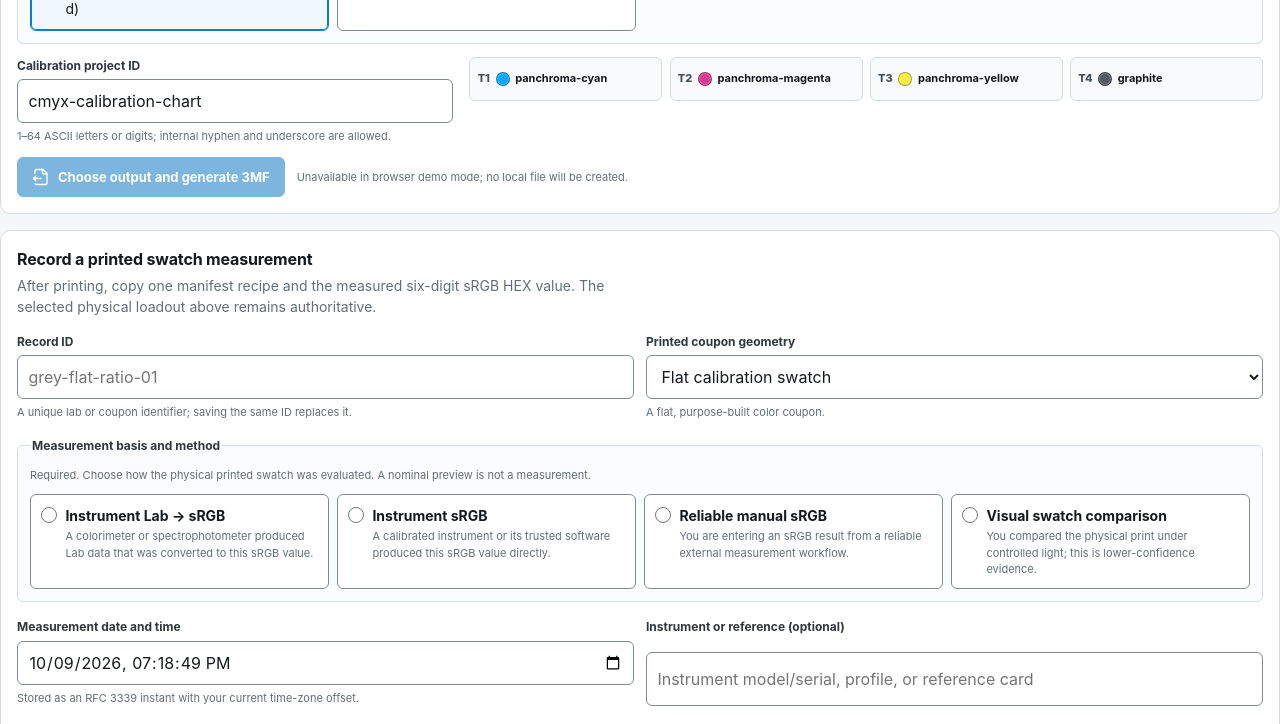
Test: ColorCalibration › blocks unavailable fixed CMY loadouts with text, not color alone
The image size is (1280, 724).
(page scrolled)
Type "blocked-coupon" into the field labelled "Record ID" at (326,377), box left=17, top=355, right=634, bottom=399
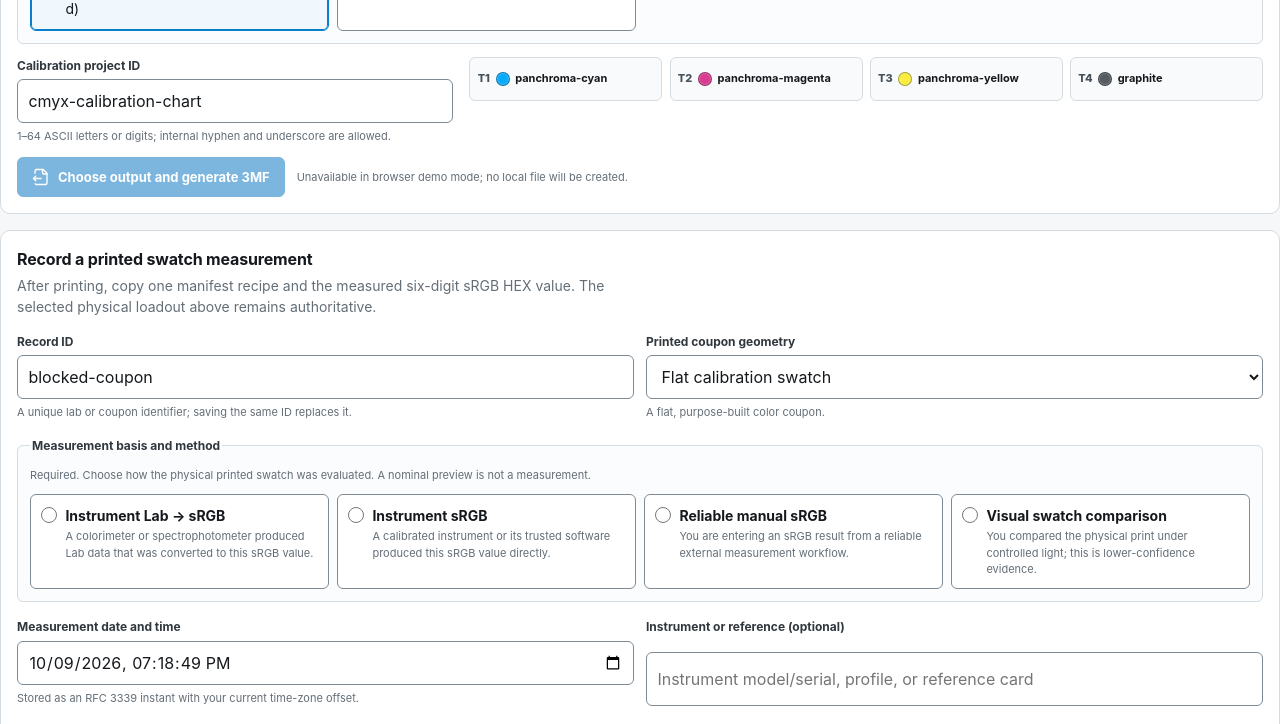
Replace the text in the field labelled "Measurement date and time" with "2026-08-01T11:30:00" at (326,663), box left=17, top=641, right=634, bottom=685
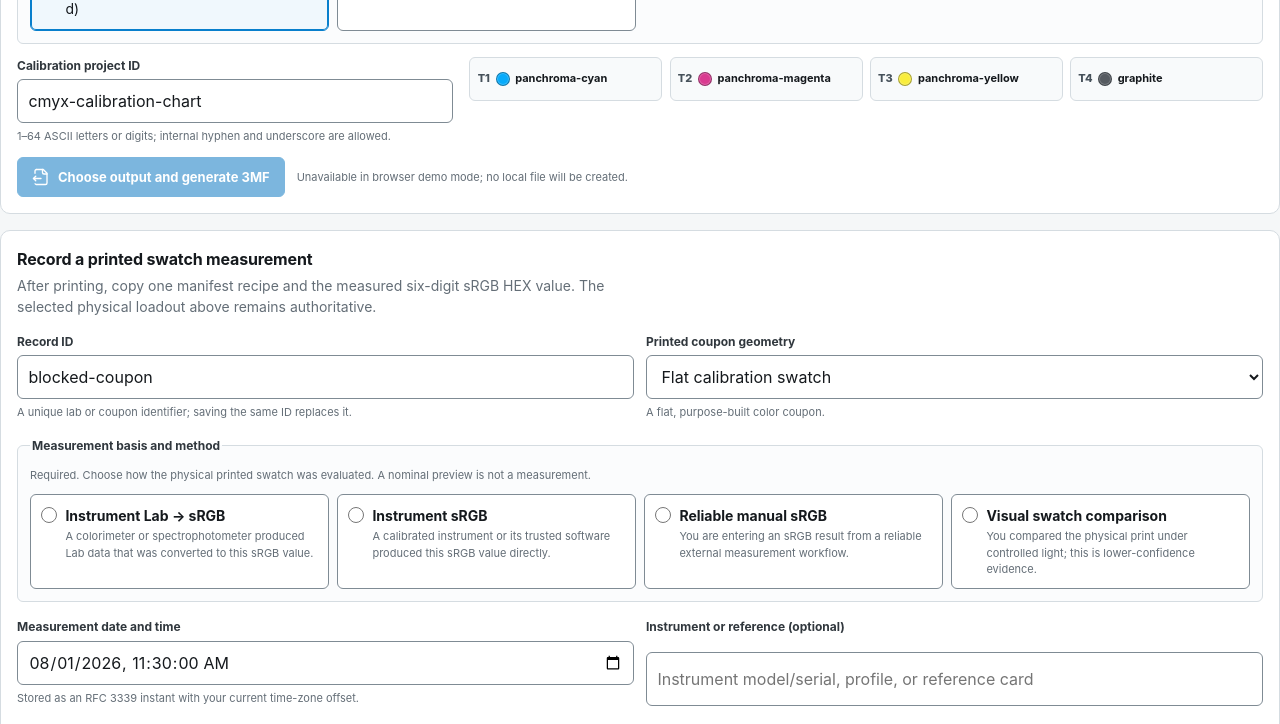
Click the radio button labelled "Instrument sRGB" at (356,515), box left=348, top=507, right=364, bottom=523
(page scrolled)
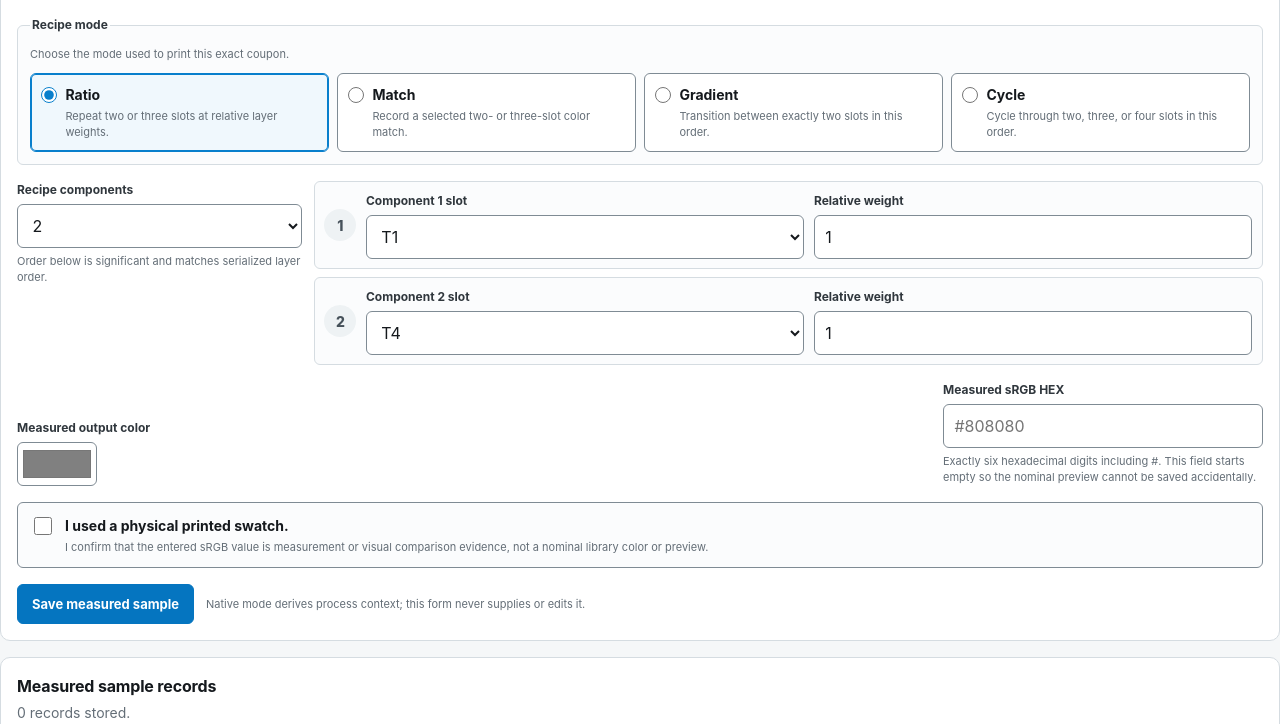
Type "#A0A1A2" into the field labelled "Measured sRGB HEX" at (1103,426), box left=943, top=404, right=1263, bottom=448
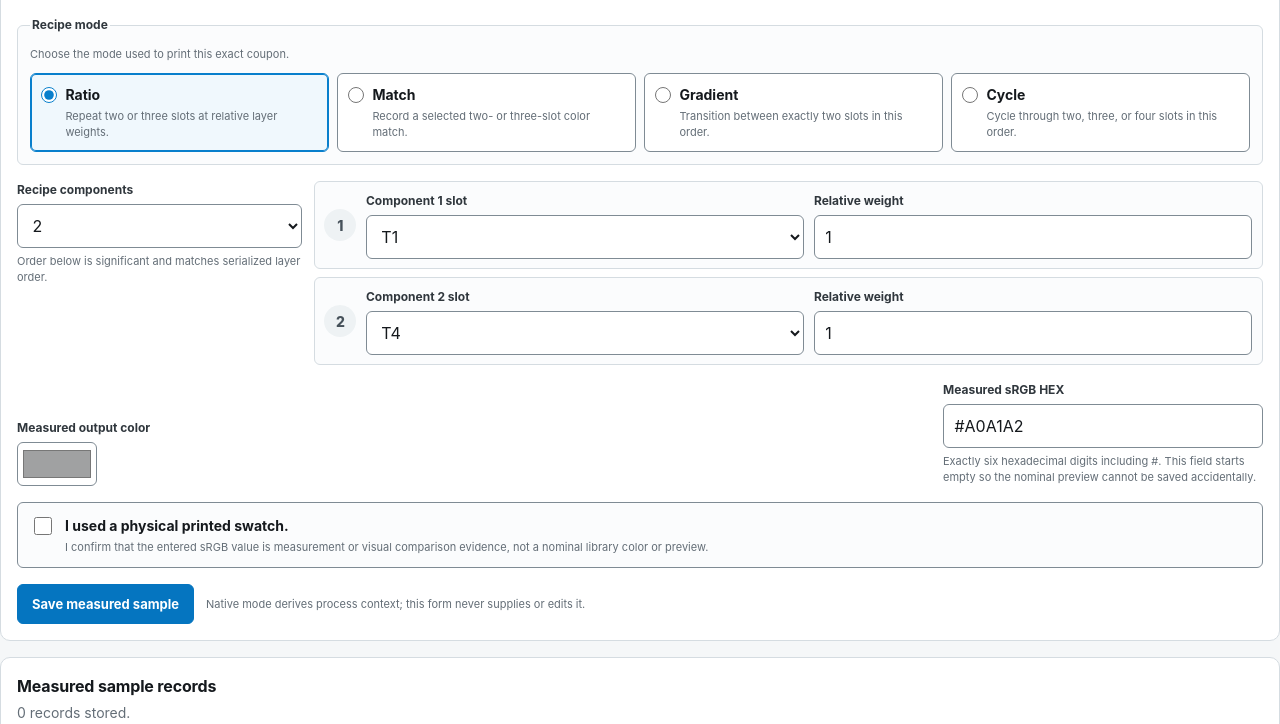
Click the checkbox labelled "I used a physical printed swatch" at (43,526), box left=34, top=517, right=52, bottom=535
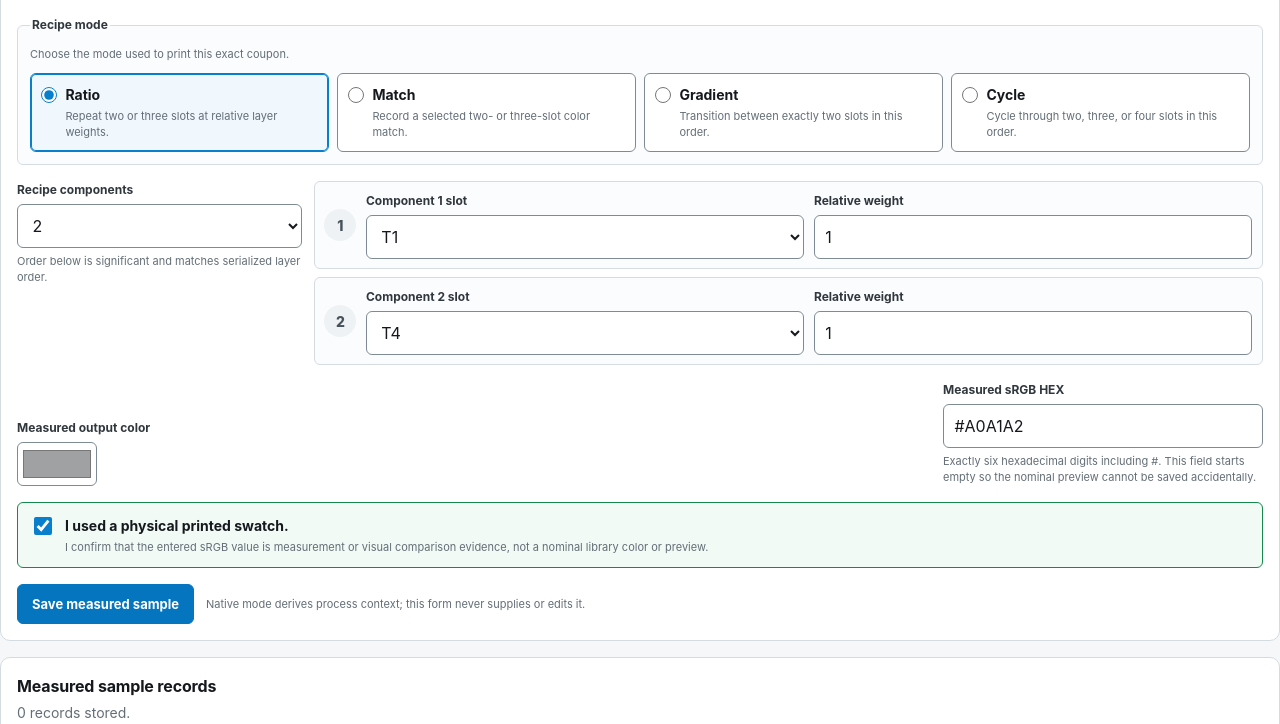
Click the button "Save measured sample" at (106,604), box left=17, top=584, right=194, bottom=624
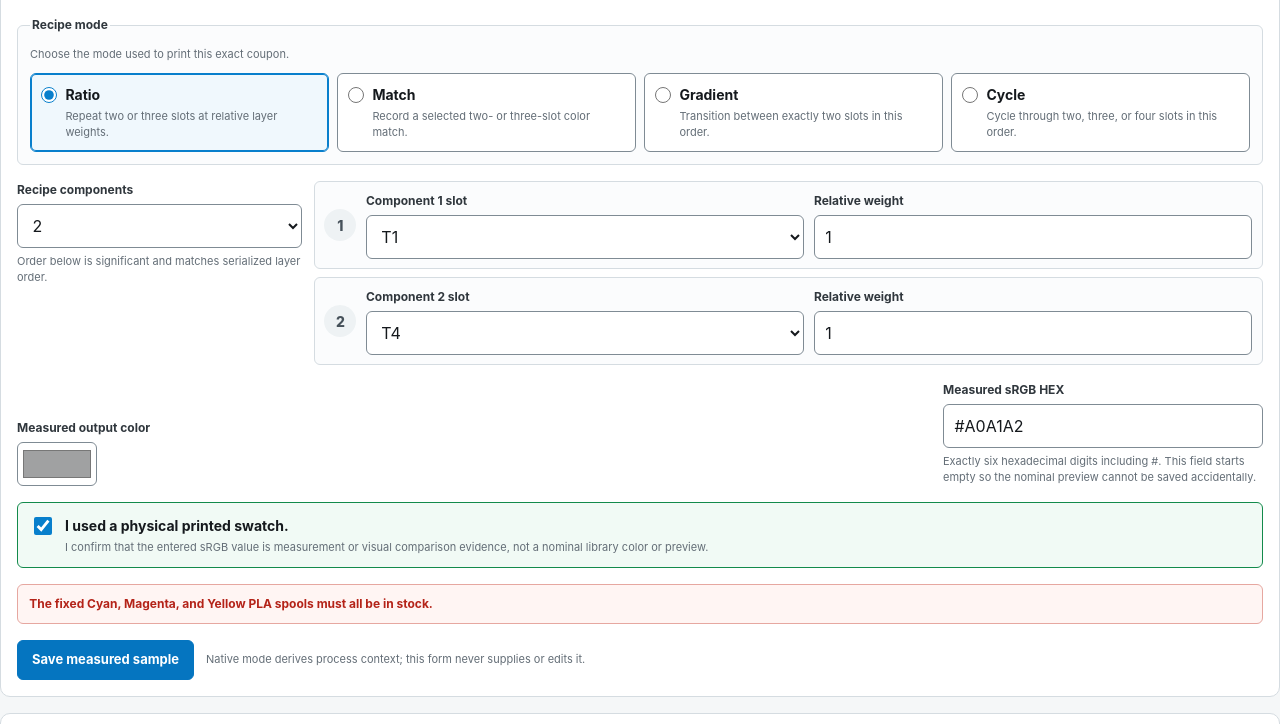
Check: the message shows "must all be in stock", box left=29, top=596, right=433, bottom=611
